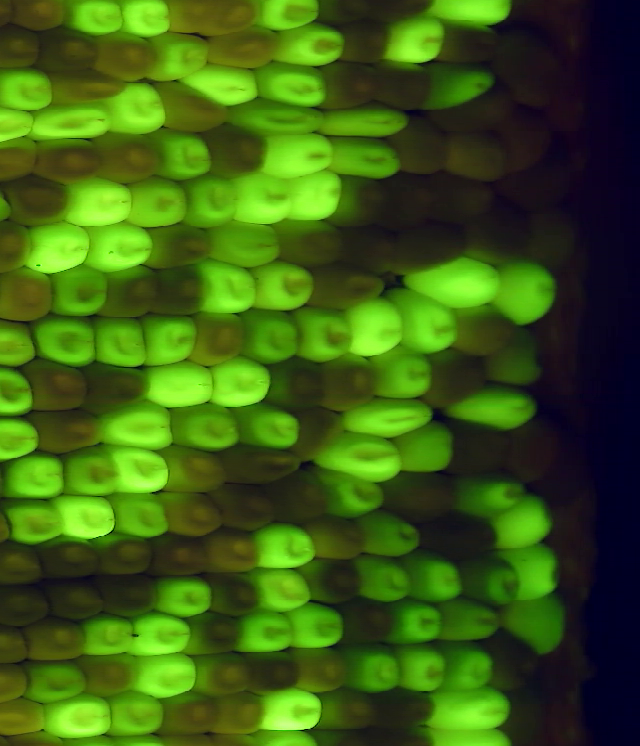fluorescent: (400, 254, 504, 308), (387, 288, 458, 350), (28, 314, 100, 373), (447, 386, 541, 431), (502, 592, 568, 654), (497, 259, 556, 327), (317, 435, 400, 483), (163, 402, 242, 452), (289, 304, 357, 361), (424, 688, 514, 731), (313, 466, 388, 517), (230, 396, 302, 448), (61, 177, 133, 229), (499, 539, 563, 597), (254, 60, 328, 110), (24, 218, 90, 274), (94, 403, 174, 449), (345, 296, 406, 356), (31, 97, 112, 142), (423, 62, 497, 111), (368, 349, 436, 402), (232, 100, 329, 137), (197, 258, 261, 314), (85, 223, 156, 273), (107, 487, 170, 543), (187, 60, 259, 109), (336, 397, 433, 433), (327, 136, 401, 183), (146, 33, 211, 86), (352, 509, 423, 557), (52, 492, 117, 544), (402, 553, 467, 605), (390, 421, 456, 472), (156, 128, 215, 185), (210, 220, 280, 268), (231, 171, 292, 226), (278, 19, 345, 69), (491, 494, 553, 548), (321, 105, 409, 143), (108, 442, 171, 495), (457, 559, 522, 610), (126, 178, 191, 229), (145, 360, 215, 407), (22, 659, 90, 707), (206, 357, 271, 407), (247, 261, 313, 310), (253, 568, 317, 618), (92, 315, 150, 370), (184, 174, 242, 229), (108, 83, 168, 136), (4, 495, 66, 546), (241, 310, 301, 362), (263, 133, 335, 176), (39, 698, 116, 738), (252, 522, 315, 570), (136, 651, 201, 697), (487, 338, 545, 389), (287, 172, 345, 223), (256, 690, 328, 731), (142, 314, 200, 364), (454, 475, 524, 516), (61, 450, 122, 497), (437, 597, 502, 641), (347, 648, 407, 695), (442, 642, 497, 693), (102, 692, 167, 735), (291, 603, 348, 652), (356, 555, 414, 603), (3, 452, 63, 498), (388, 600, 445, 647), (426, 1, 515, 31), (51, 270, 109, 316), (387, 18, 445, 63), (76, 614, 136, 656), (152, 579, 216, 618), (0, 66, 58, 109), (131, 618, 195, 656), (398, 643, 446, 693), (234, 612, 295, 651), (116, 1, 173, 38), (424, 725, 522, 746), (65, 1, 121, 36), (0, 416, 41, 462), (0, 322, 39, 370), (0, 364, 33, 416), (257, 1, 322, 27), (0, 100, 34, 144), (252, 729, 322, 746), (65, 734, 117, 746), (118, 733, 163, 746)
nonfluorescent: (494, 25, 560, 105), (445, 418, 519, 480), (417, 508, 494, 564), (383, 470, 457, 527), (156, 80, 229, 136), (464, 198, 527, 260), (27, 406, 110, 453), (510, 421, 567, 489), (424, 350, 485, 412), (202, 122, 268, 178), (508, 154, 574, 209), (1, 176, 75, 225), (80, 361, 154, 410), (96, 131, 163, 184), (482, 628, 540, 689), (92, 30, 157, 84), (213, 442, 303, 481), (159, 491, 230, 540), (446, 128, 508, 184), (145, 223, 215, 272), (104, 264, 162, 323), (524, 210, 576, 275), (24, 360, 90, 411), (191, 312, 247, 372), (534, 448, 590, 508), (389, 225, 465, 269), (303, 516, 371, 565), (372, 60, 434, 112), (274, 219, 344, 265), (452, 307, 518, 355), (159, 444, 225, 492), (210, 484, 278, 530), (296, 560, 366, 604), (153, 265, 210, 319), (322, 359, 381, 411), (268, 471, 327, 523), (267, 358, 327, 409), (335, 175, 391, 228), (315, 267, 387, 308), (0, 267, 55, 320), (391, 120, 447, 172), (291, 643, 349, 693), (213, 27, 282, 69), (148, 534, 212, 579), (36, 138, 101, 182), (94, 575, 159, 619), (47, 66, 126, 102), (23, 620, 89, 663), (288, 408, 340, 462), (36, 27, 97, 73), (499, 110, 550, 165), (37, 539, 106, 579), (333, 601, 394, 646), (314, 689, 377, 732), (437, 91, 513, 126), (342, 223, 395, 273), (372, 687, 435, 729), (320, 62, 376, 109), (76, 653, 140, 694), (387, 180, 442, 227), (42, 579, 105, 620), (95, 534, 155, 577), (443, 20, 499, 66), (438, 175, 495, 220), (202, 532, 259, 577), (193, 654, 257, 694), (213, 694, 272, 737), (159, 694, 222, 734), (183, 613, 242, 655), (505, 690, 548, 746), (0, 584, 56, 627), (204, 575, 261, 616), (249, 651, 300, 693), (12, 1, 73, 35), (340, 19, 387, 62), (0, 25, 43, 70), (208, 1, 256, 41), (549, 80, 584, 133), (0, 224, 35, 273), (0, 698, 47, 734), (170, 1, 216, 37), (0, 544, 40, 584), (0, 661, 32, 706), (371, 1, 436, 23), (0, 624, 32, 666), (0, 147, 38, 182), (314, 1, 372, 23), (315, 731, 387, 746), (207, 731, 265, 746), (379, 732, 437, 746), (164, 732, 219, 746), (10, 731, 59, 746)
